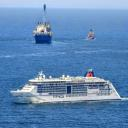cruises: (10, 68, 122, 105)
